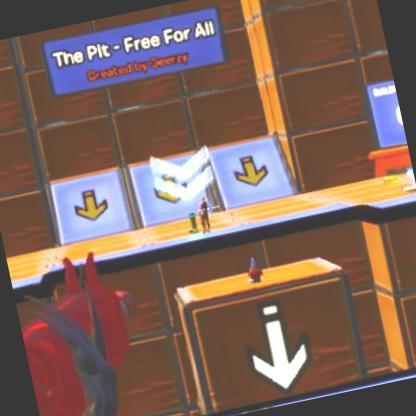person: (194, 193, 212, 224)
